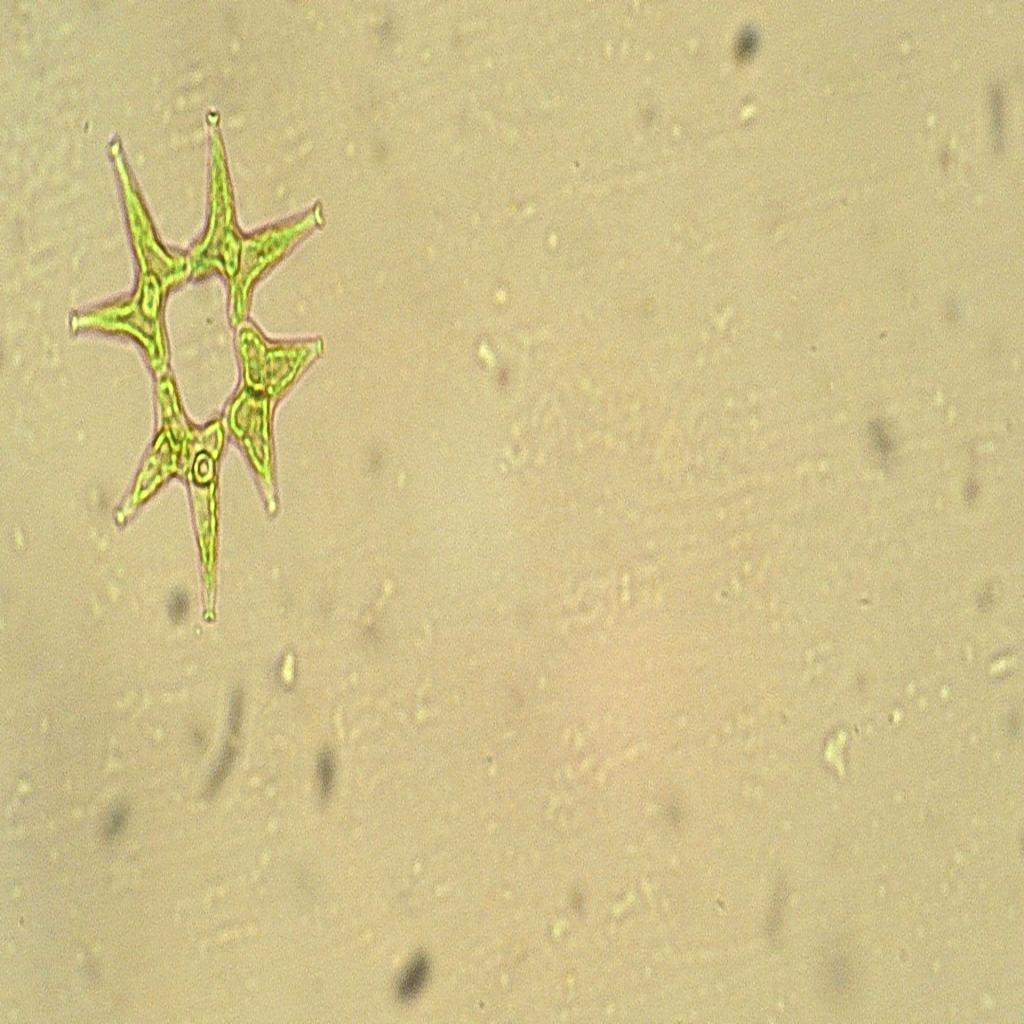Pediastrum_10: (57, 96, 355, 638)
